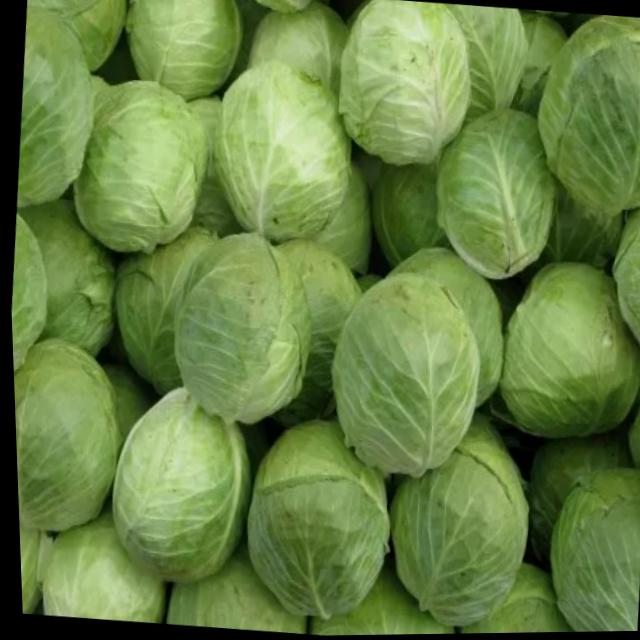Cabbage: (231, 411, 401, 626), (368, 419, 541, 630), (489, 233, 640, 474), (315, 273, 486, 484), (155, 230, 321, 428), (94, 391, 260, 578), (43, 83, 212, 253), (207, 73, 357, 248), (425, 105, 565, 287), (10, 333, 129, 540), (329, 0, 476, 167), (103, 219, 235, 404), (528, 17, 640, 218), (537, 445, 640, 634), (120, 0, 245, 104)
